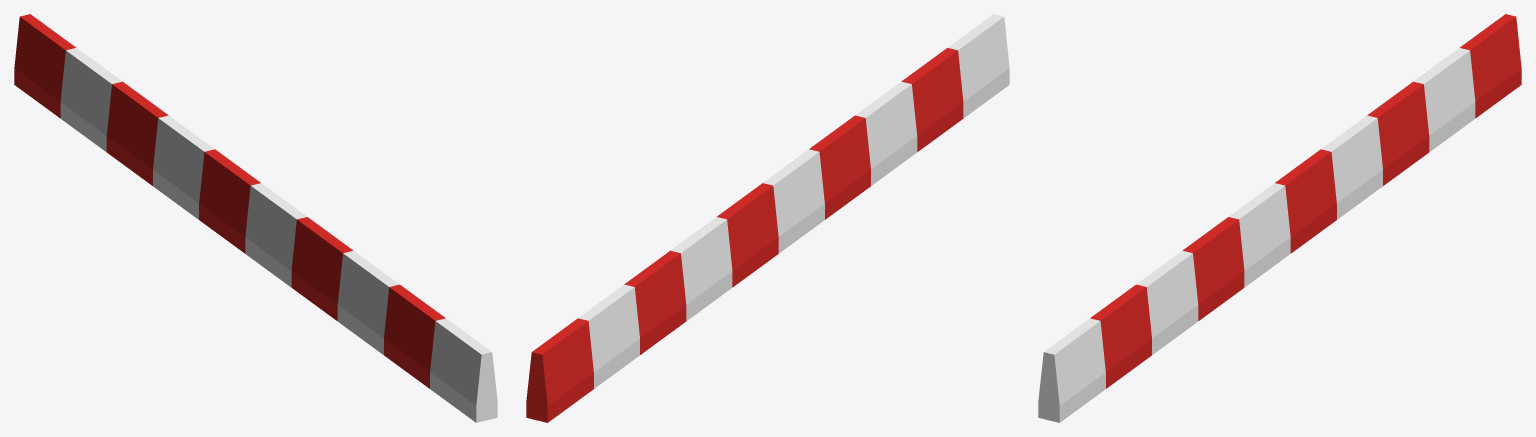
The model's file is Track line .fbx.
3 views of the same model, side by side, from view 1: azimuth 30°, elevation 25°; view 2: azimuth 150°, elevation 25°; view 3: azimuth 330°, elevation 25° (orthographic).
Visible parts, largest first — view 1: Track_Fence_line_type_01_15m_free; view 2: Track_Fence_line_type_01_15m_free; view 3: Track_Fence_line_type_01_15m_free.
Part boxes in pixels (x1,y1,x2,y2): Track_Fence_line_type_01_15m_free: (14,14,497,422); Track_Fence_line_type_01_15m_free: (526,14,1009,422); Track_Fence_line_type_01_15m_free: (1038,14,1521,422).
Size of the model in its own units: 40 by 120 by 1500.
